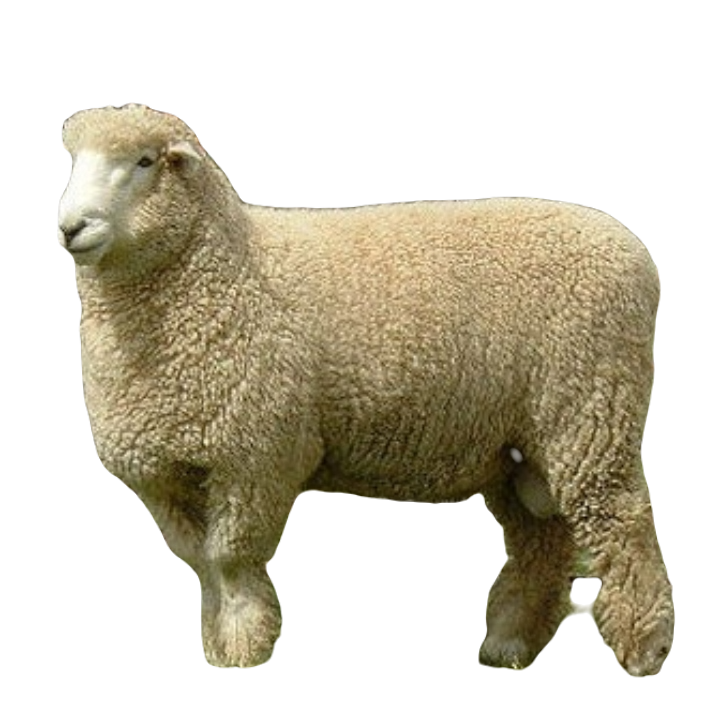Sheep: (46, 97, 681, 679)
